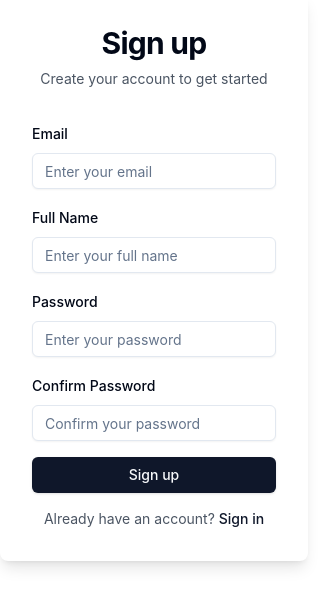
RegistrationPage › shows validation errors for invalid email
Type "invalid-email" into the field labelled "Email". click: {"x": 154, "y": 171}
box: top-left (32, 153), bottom-right (276, 189)
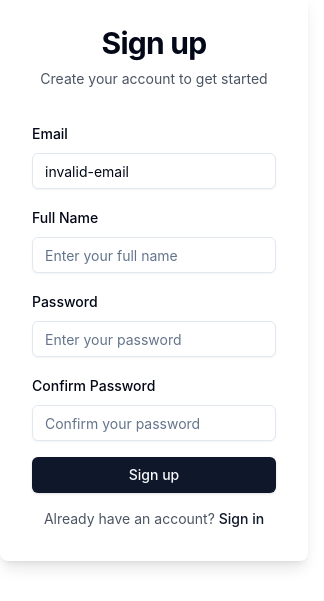
Leave the field labelled "Email", box top-left (32, 153), bottom-right (276, 189)
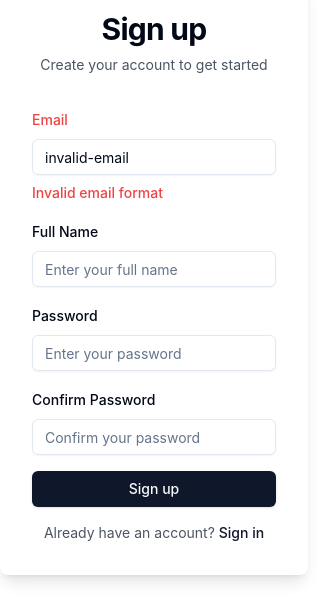
Result: the text "Invalid email format" is shown at top-left (32, 184), bottom-right (163, 201)
